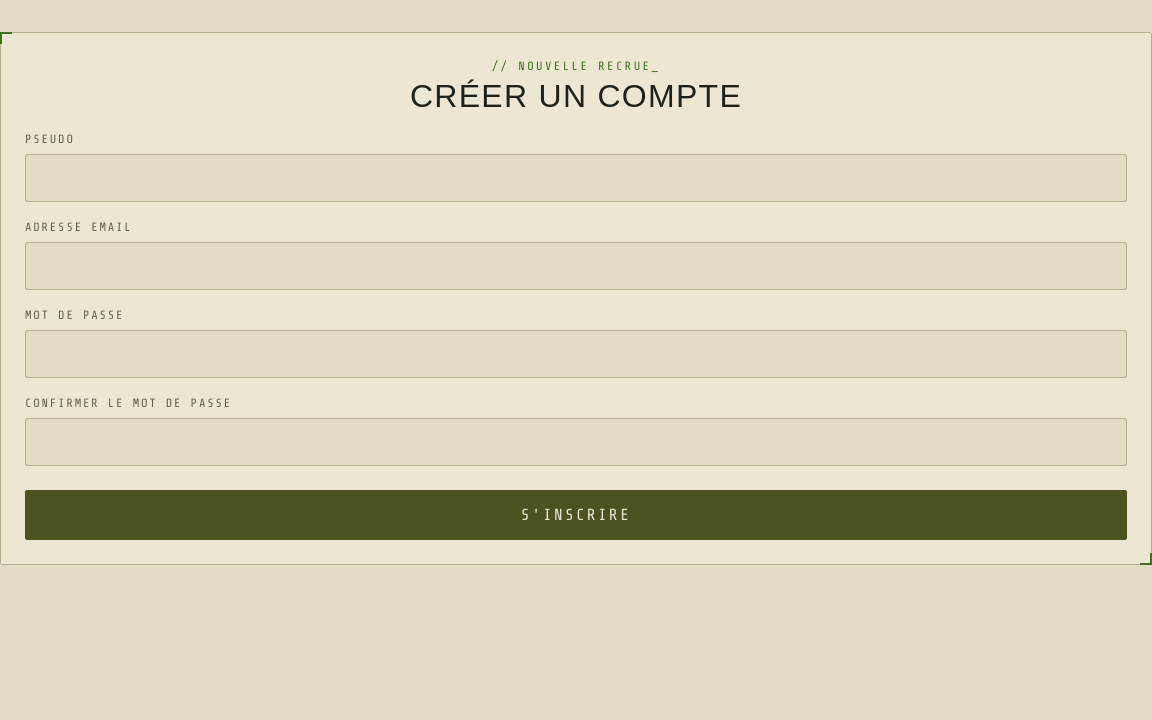
Test case: Composant Register (US 3.1) › refuse un mot de passe de moins de 6 caractères
Type "serpent" into the field labelled "Pseudo" at (576, 178), box [25, 154, 1127, 202]
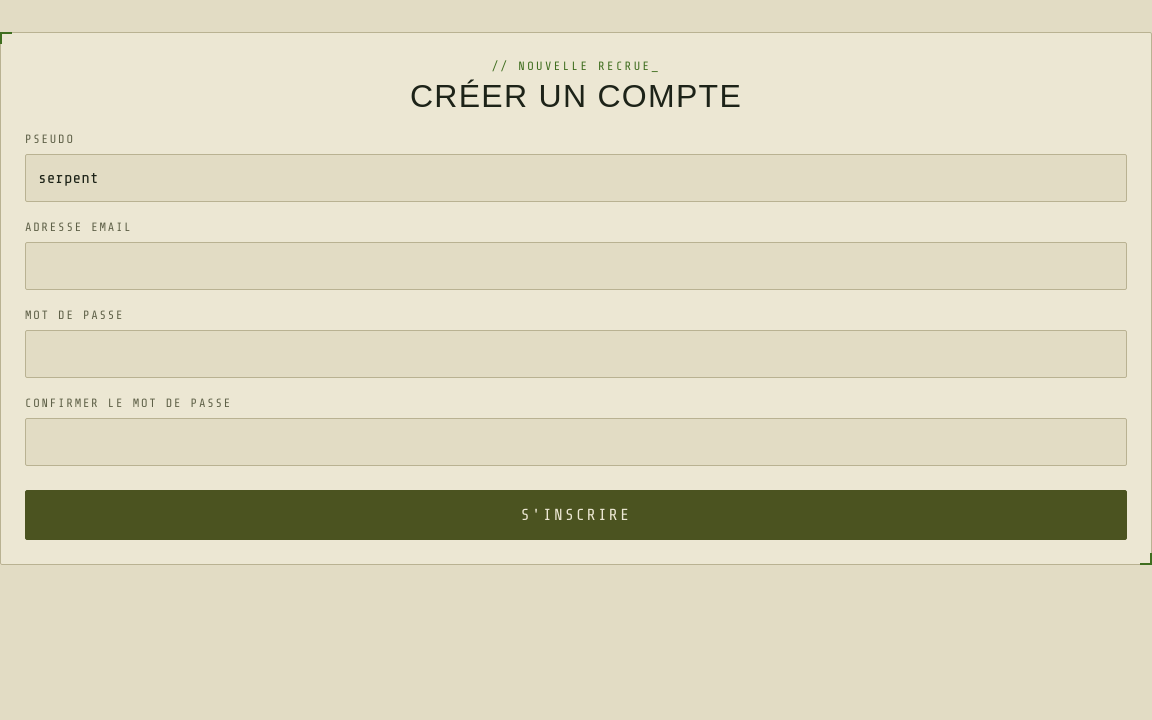
Type "test@exemple.com" into the field labelled "Adresse email" at (576, 266), box [25, 242, 1127, 290]
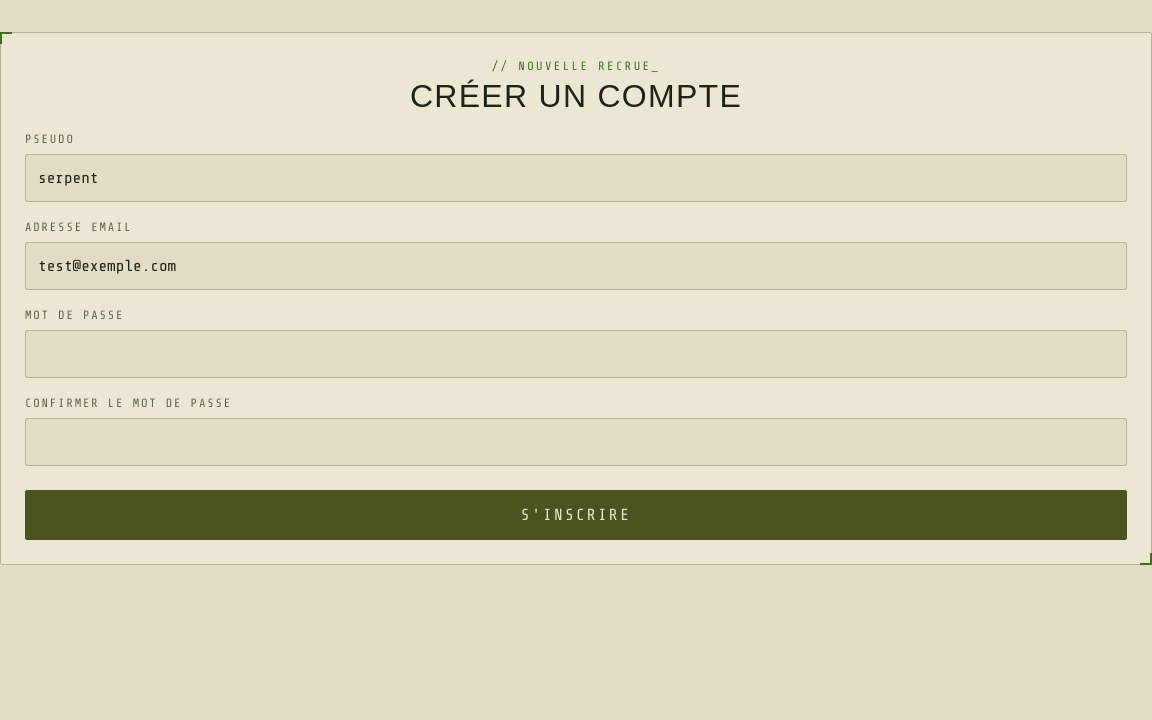
Type "abc" into the password field labelled "Mot de passe" at (576, 354), box [25, 330, 1127, 378]
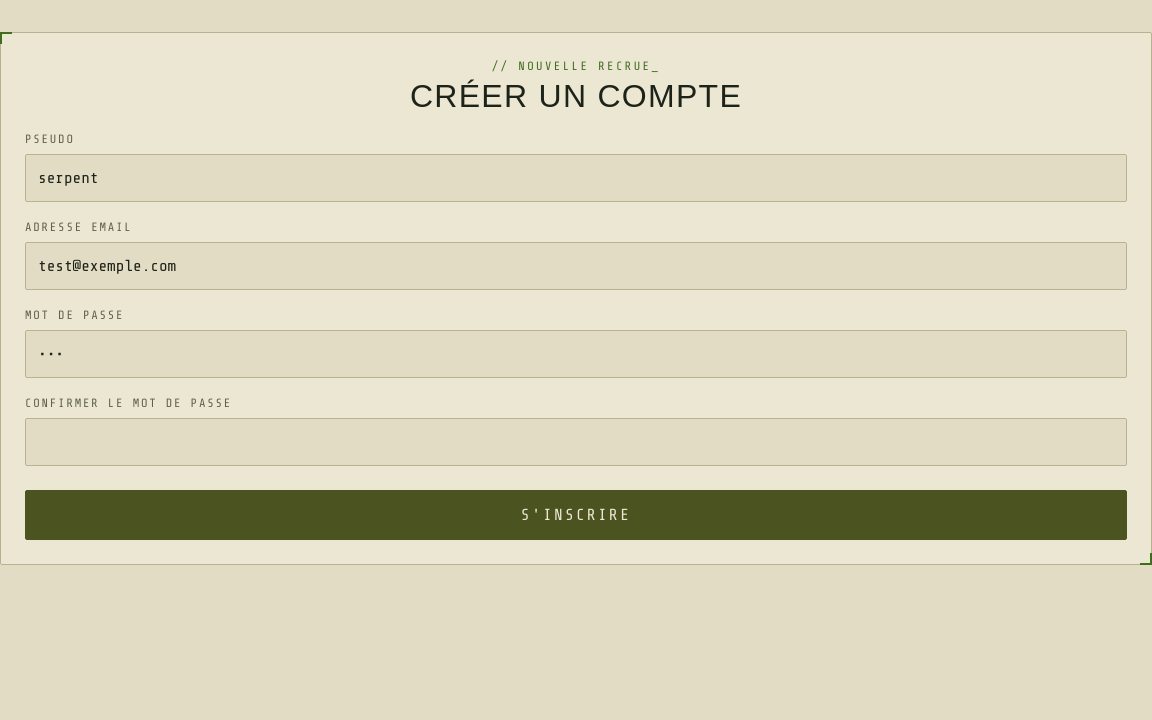
Type "abc" into the password field labelled "Confirmer le mot de passe" at (576, 442), box [25, 418, 1127, 466]
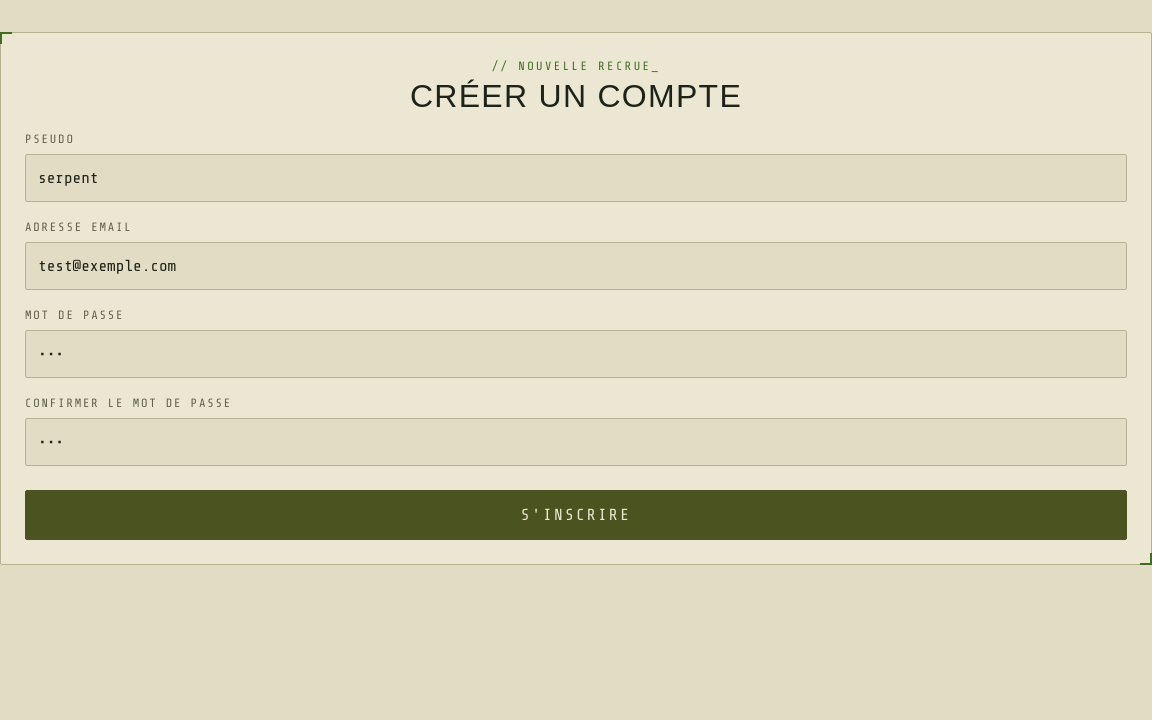
Click the button "S'inscrire" at (576, 515), box [25, 490, 1127, 540]
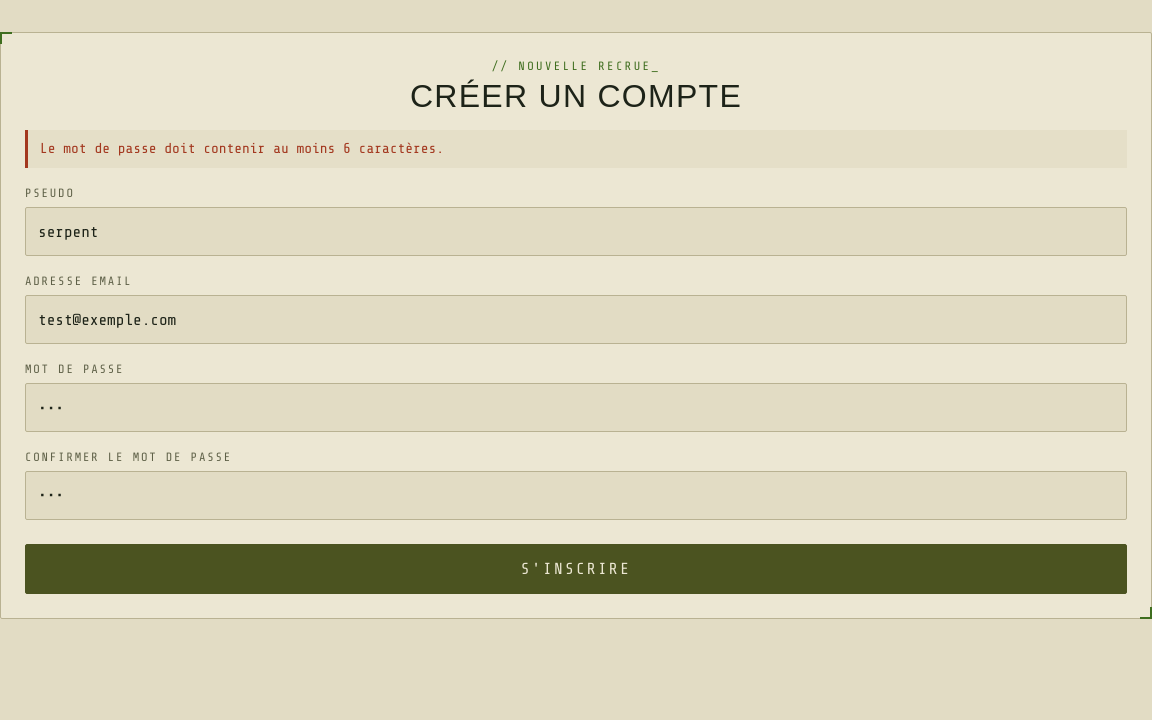
Now the text "Le mot de passe doit contenir au moins 6 caractères." is shown, box [25, 130, 1127, 168]
